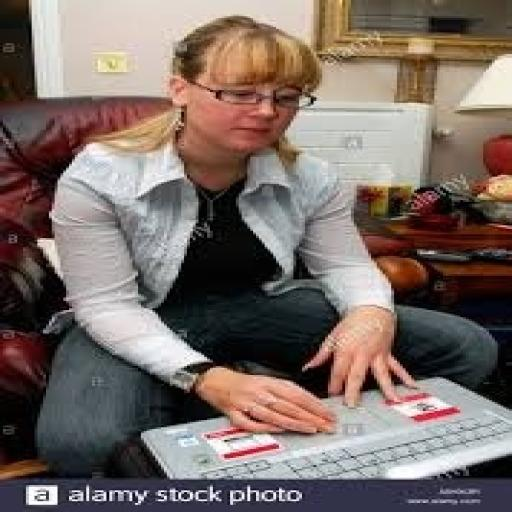using_laptop: (135, 374, 509, 482)
